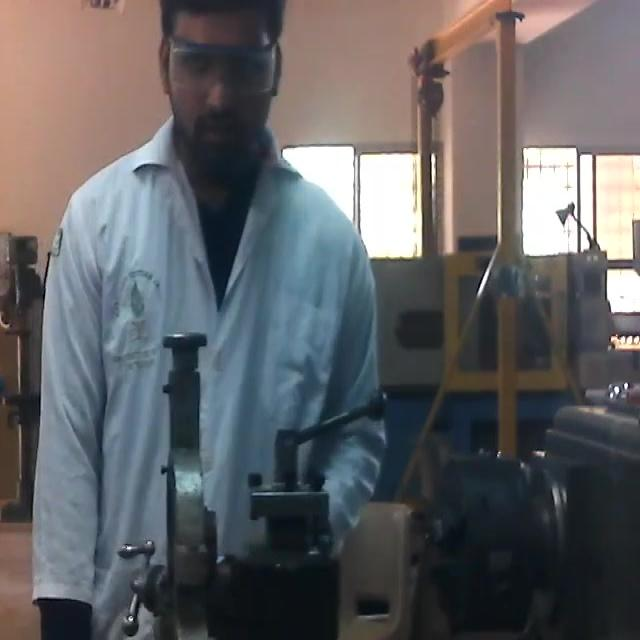googles: (165, 28, 280, 107)
labcoat: (29, 113, 394, 640)
